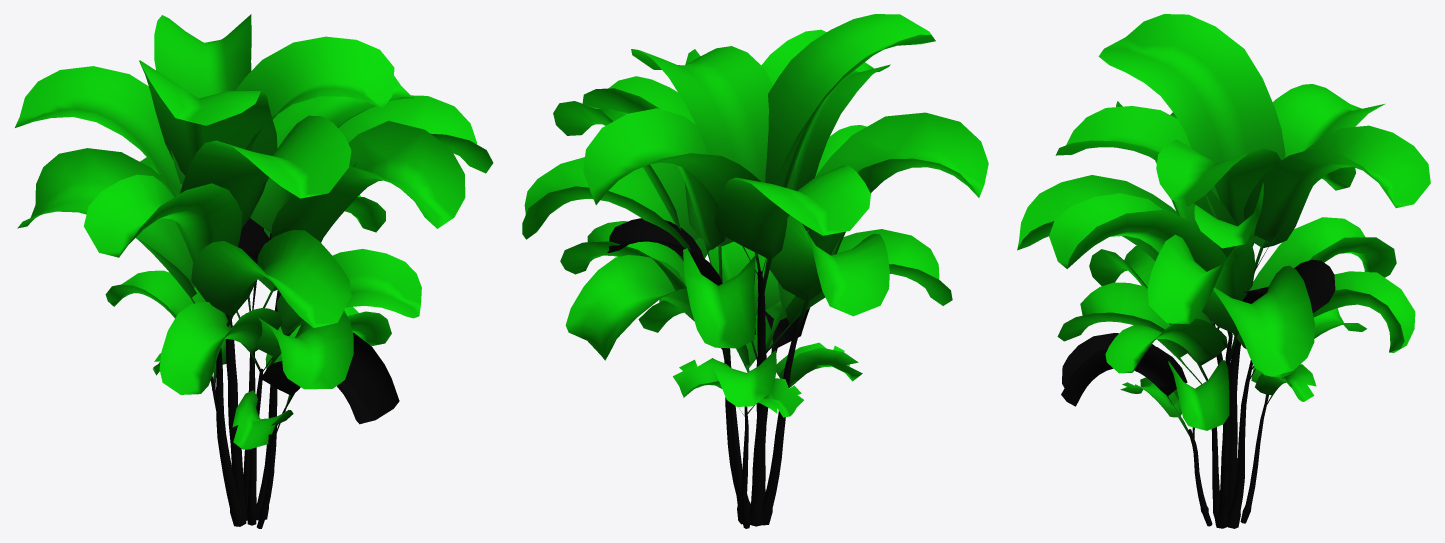
The picture shows the model from 3 angles, left to right: view 1: azimuth 30°, elevation 25°; view 2: azimuth 150°, elevation 25°; view 3: azimuth 270°, elevation 25°; orthographic projection. The views are drawn at different scales.
Visible parts, largest first — view 1: SM_TR_ArecaPalm_6m_HD; view 2: SM_TR_ArecaPalm_6m_HD; view 3: SM_TR_ArecaPalm_6m_HD.
Boxes of the visible parts, x1,y1,x2,y2 form: SM_TR_ArecaPalm_6m_HD: [15, 14, 493, 528]; SM_TR_ArecaPalm_6m_HD: [522, 14, 988, 528]; SM_TR_ArecaPalm_6m_HD: [1017, 14, 1430, 528].
Size of the model in its own units: 186 by 192 by 226.
